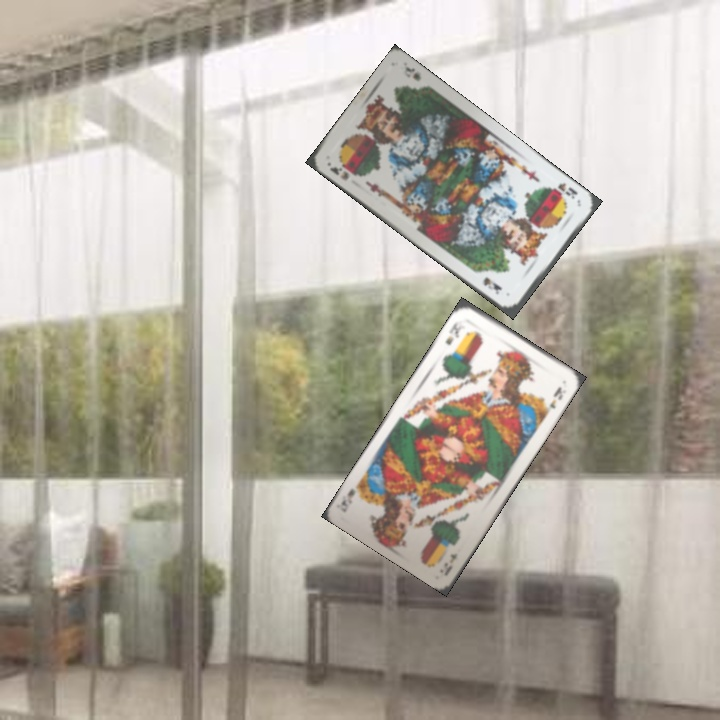EK: (441, 316, 468, 348), (439, 549, 460, 577)
SK: (544, 178, 580, 203), (326, 161, 359, 183)
